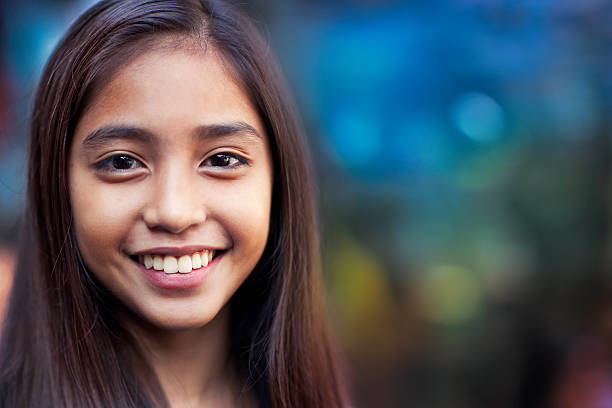face: (79, 57, 275, 328)
